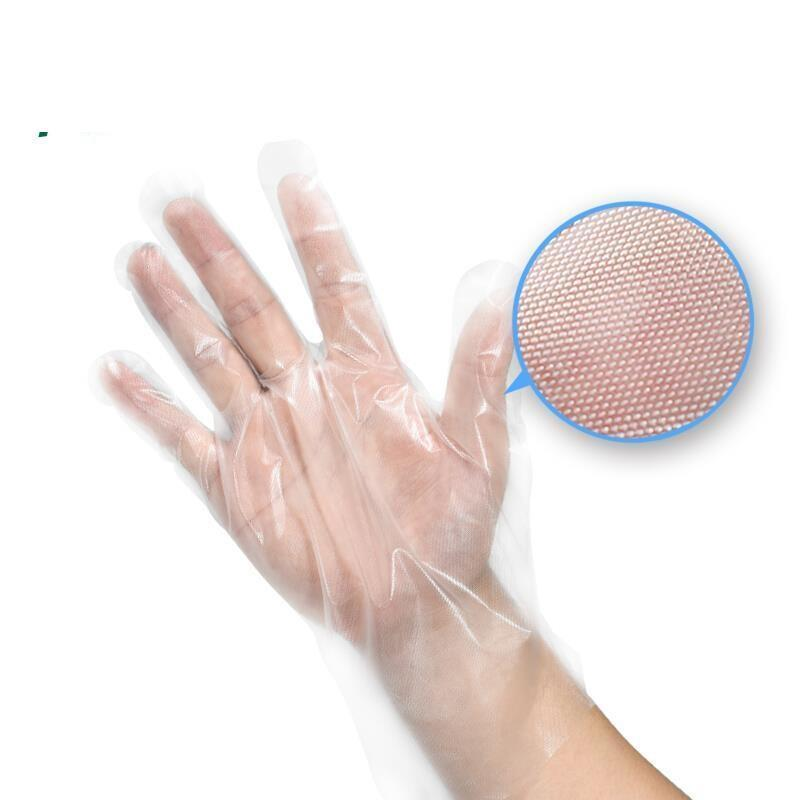gloves: (84, 170, 534, 714)
